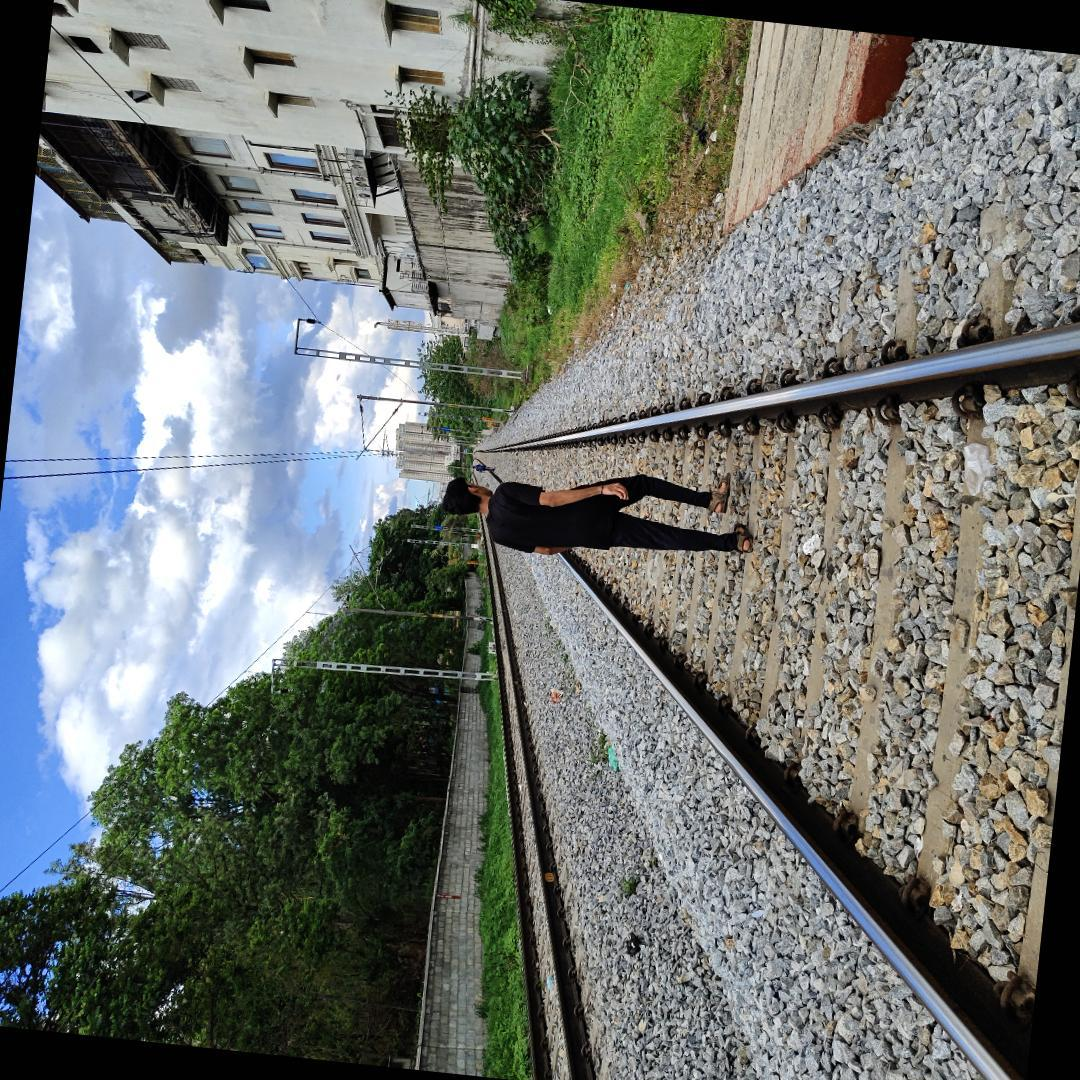standing: (427, 444, 760, 591)
